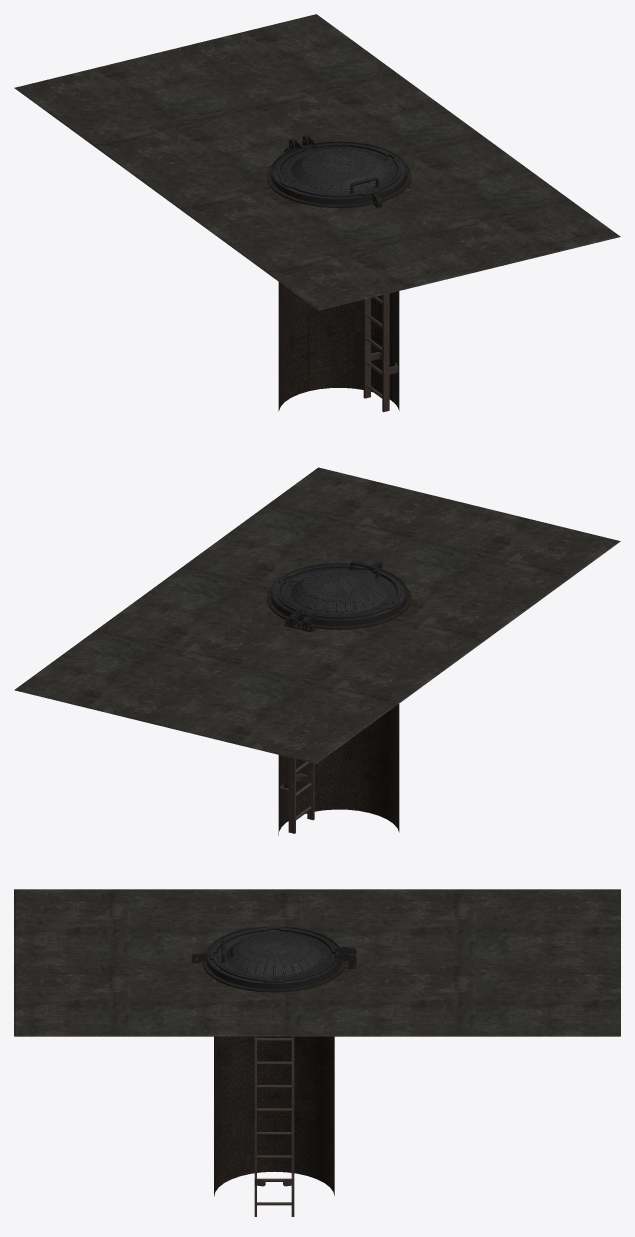
File: floor_manhole_shaft_end_1.glb
3 views of the same model, one above another, from view 1: azimuth 30°, elevation 25°; view 2: azimuth 150°, elevation 25°; view 3: azimuth 270°, elevation 25° (orthographic).
Parts seen in each view (by area): view 1: floor_manhole_shaft_end_1, manhole_cover_1, shaft_end_ladder; view 2: floor_manhole_shaft_end_1, manhole_cover_1, shaft_end_ladder; view 3: floor_manhole_shaft_end_1, manhole_cover_1, shaft_end_ladder.
Boxes of the visible parts, x1,y1,x2,y2 form: floor_manhole_shaft_end_1: [14, 14, 620, 411]; manhole_cover_1: [271, 135, 407, 206]; shaft_end_ladder: [363, 293, 398, 412]; floor_manhole_shaft_end_1: [14, 467, 620, 835]; manhole_cover_1: [271, 561, 407, 626]; shaft_end_ladder: [280, 757, 314, 833]; floor_manhole_shaft_end_1: [14, 889, 620, 1196]; manhole_cover_1: [192, 926, 356, 989]; shaft_end_ladder: [254, 1036, 294, 1216].
Size of the model in its own units: 4.04 by 3.22 by 7.04.
5 materials, 5 textured.
